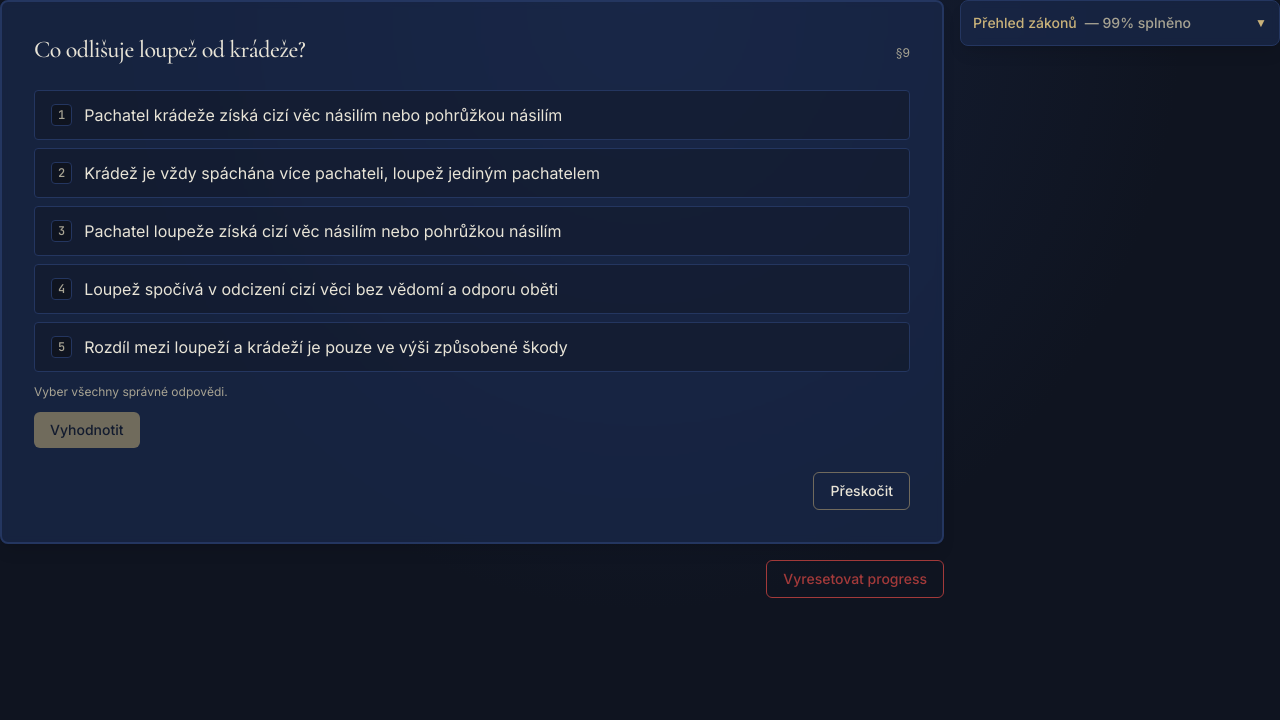
Scenario: <LawPage /> — navigation › skip advances past the current question
Expected: the heading "Co odlišuje loupež od krádeže?" is shown, [34, 34, 305, 66]
What coordinates should you click on to do the following:
click the button with test id "law-skip"
I would click on:
 (862, 491)
Its box is [814, 472, 910, 510].
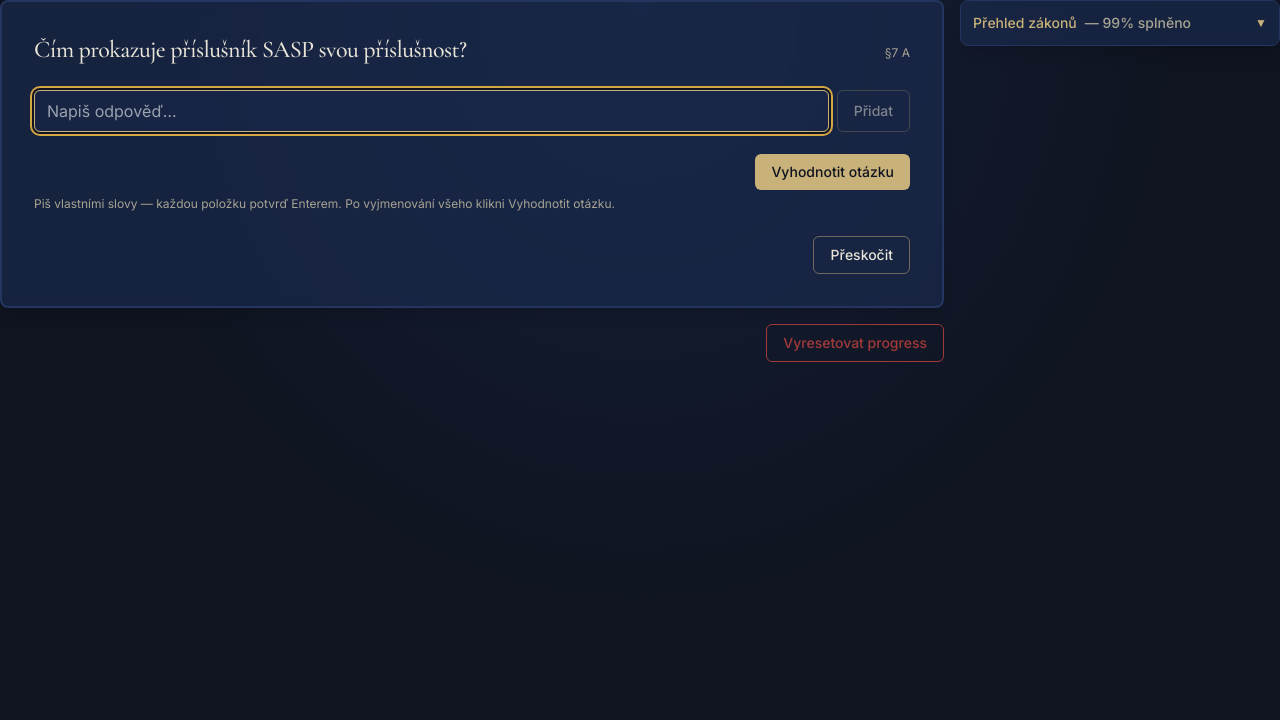
Expected: the heading "Čím prokazuje příslušník SASP svou příslušnost?" is shown, [34, 34, 466, 66]
Expected: the heading with test id "law-prompt" no longer shows "Co odlišuje loupež od krádeže?"
